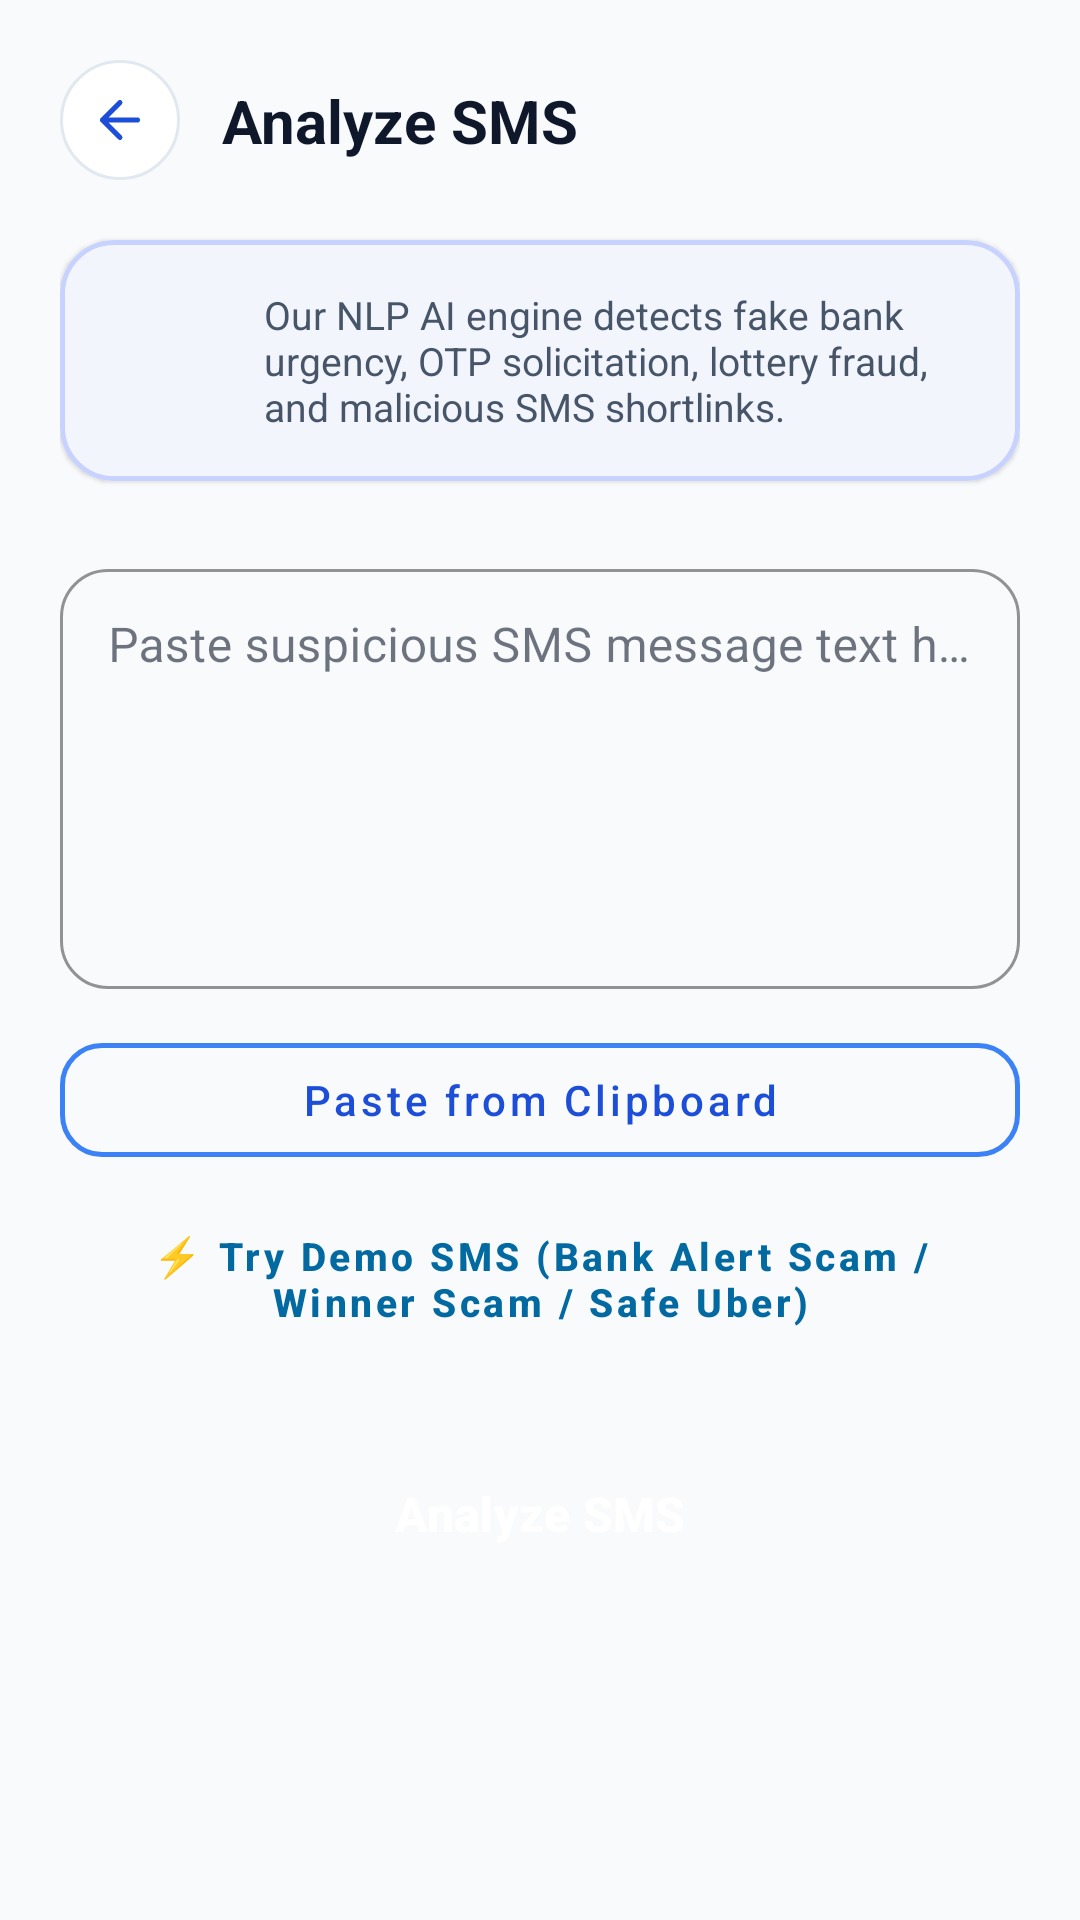

Locate icon controls on the screen. Image size 1080px x 1920px, boxes as box(x1, y1, x2, y2).
arrow back: box(100, 100, 140, 140)
